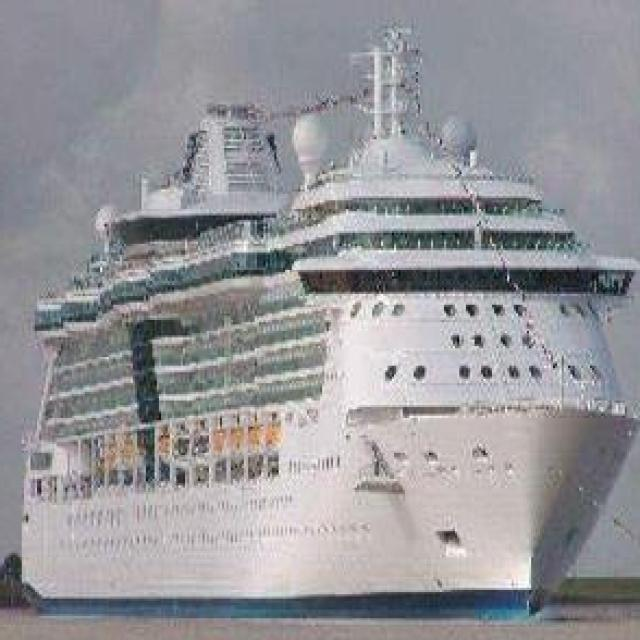passenger ship: (19, 26, 635, 621)
